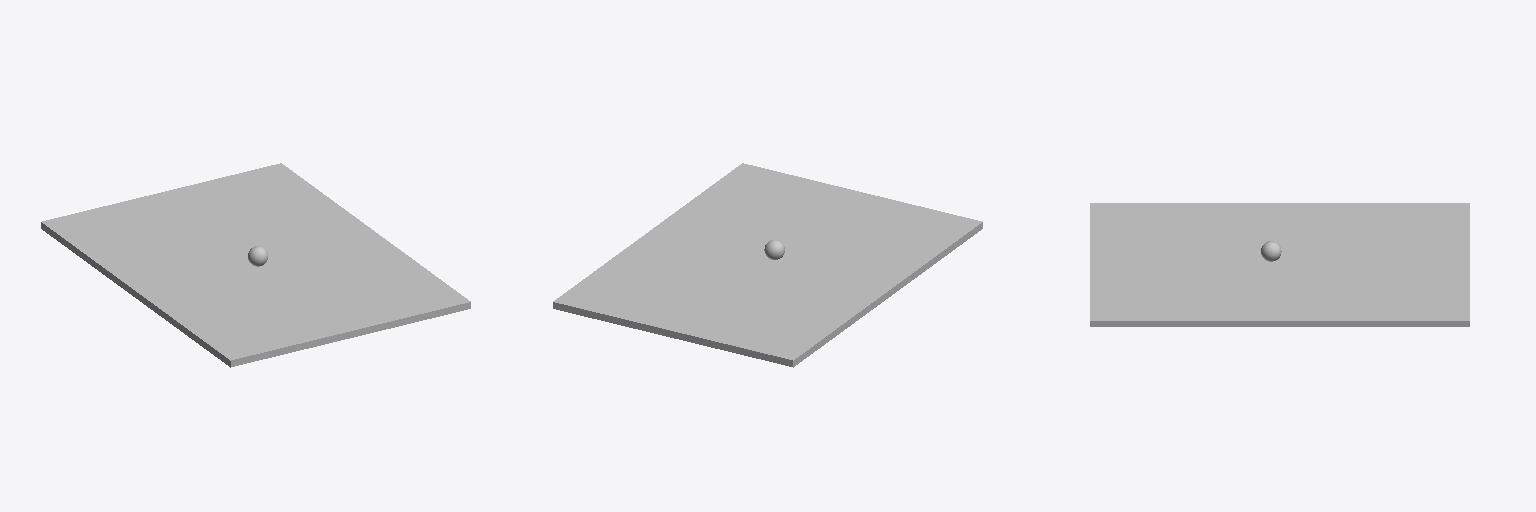
Rendered from simple.obj.
The picture shows the model from 3 angles: view 1: azimuth 30°, elevation 25°; view 2: azimuth 150°, elevation 25°; view 3: azimuth 270°, elevation 25°; orthographic projection.
Bounding box in the file's own units: 23.02 × 2.34 × 31.43.